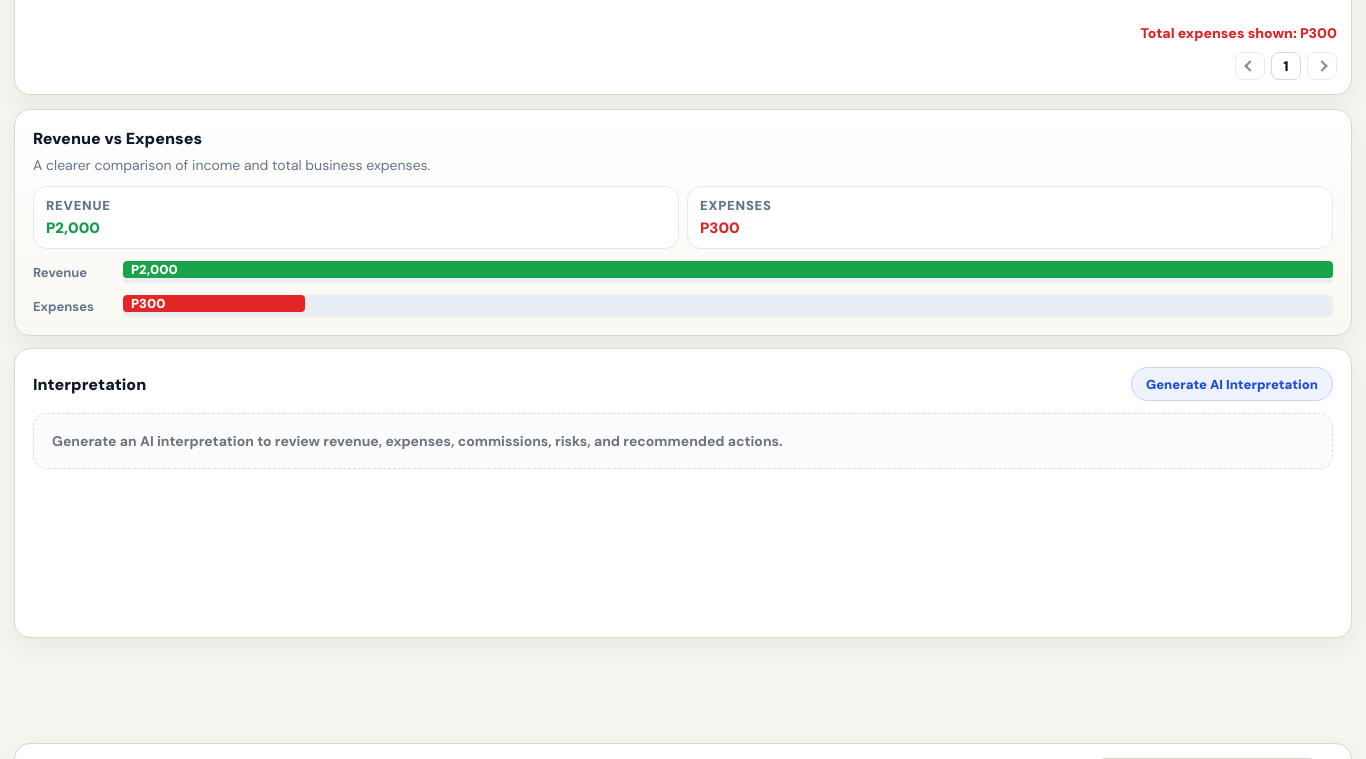
Test: Financial Tracker AI interpretation › guards duplicate AI requests while generation is in progress
(page scrolled)
Click the button "Generate AI Interpretation" at {"x": 1232, "y": 384}, box [1131,367,1333,401]
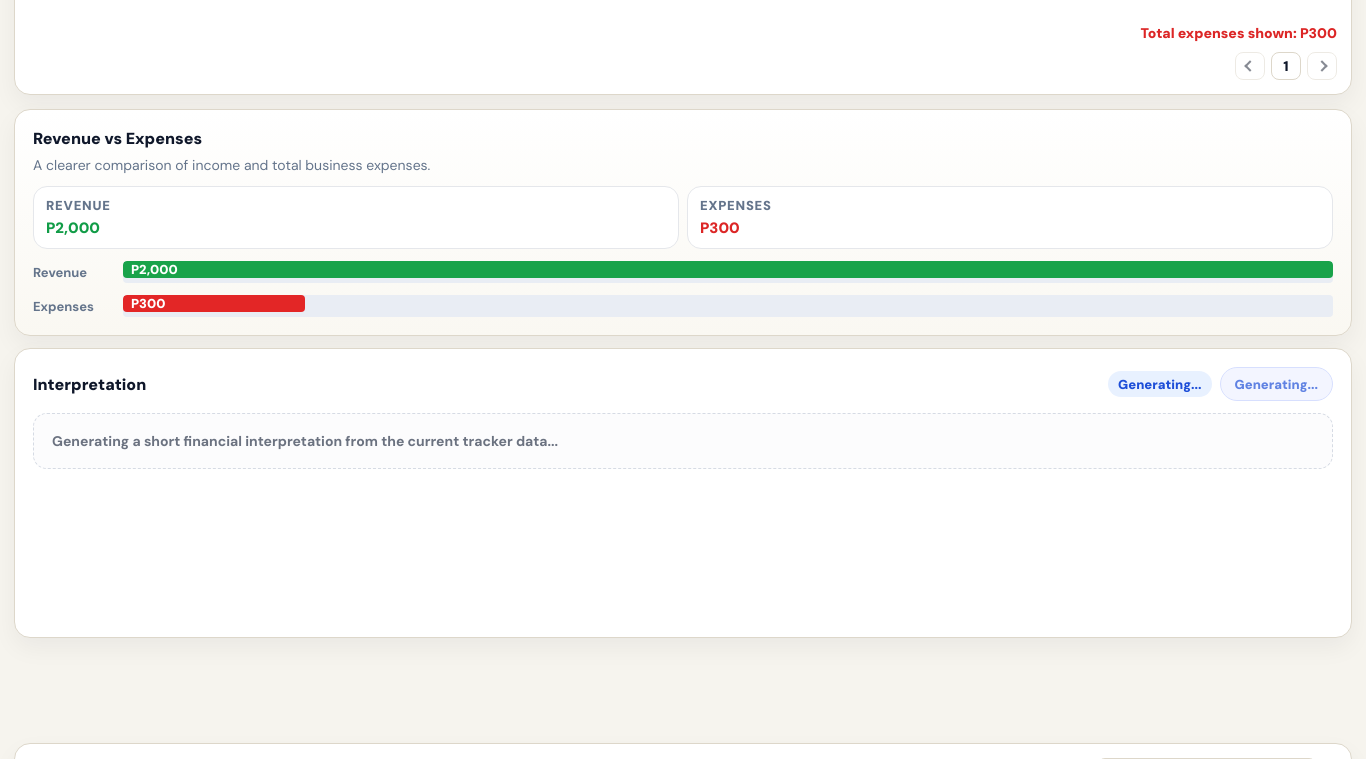
Click the button "Generating..." at {"x": 1276, "y": 384}, box [1220,367,1333,401]
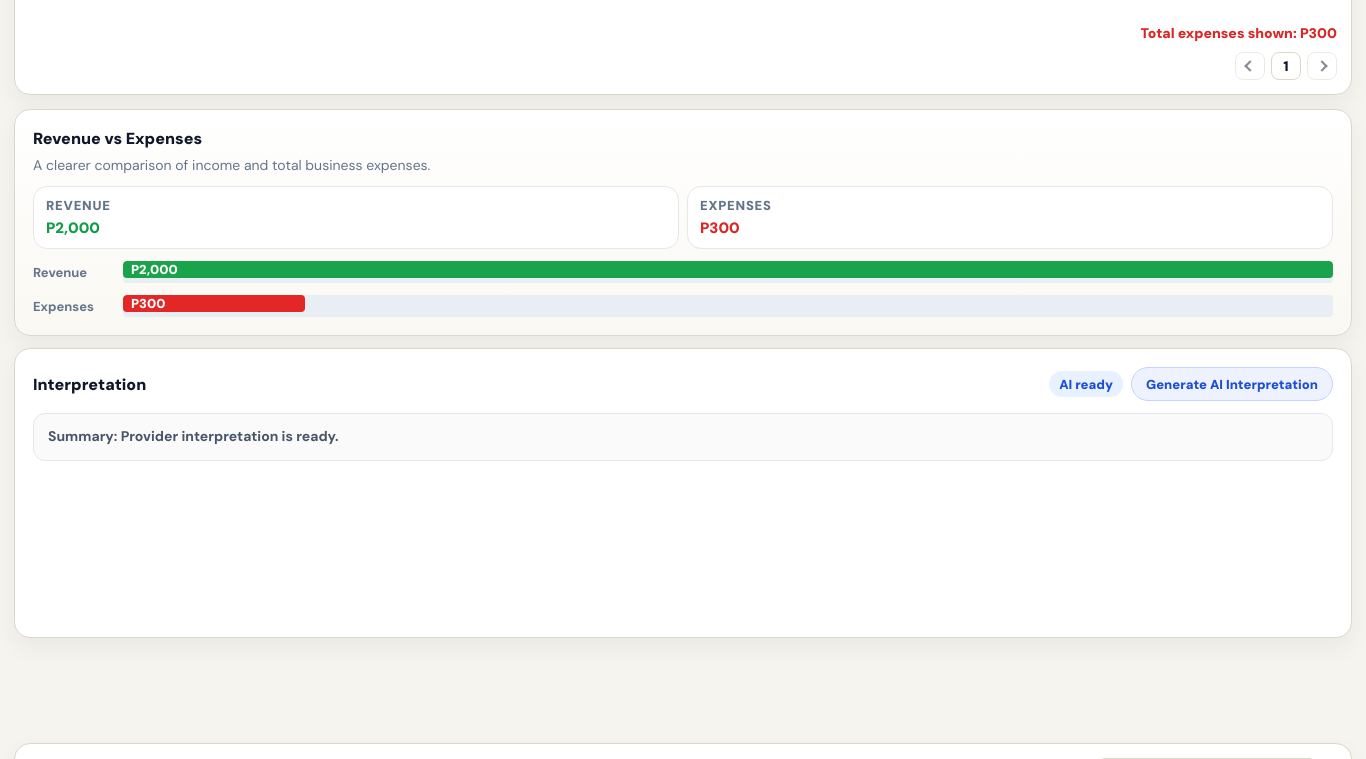
Expected: the text "Summary: Provider interpretation is ready." is shown, [33,413,1333,461]
